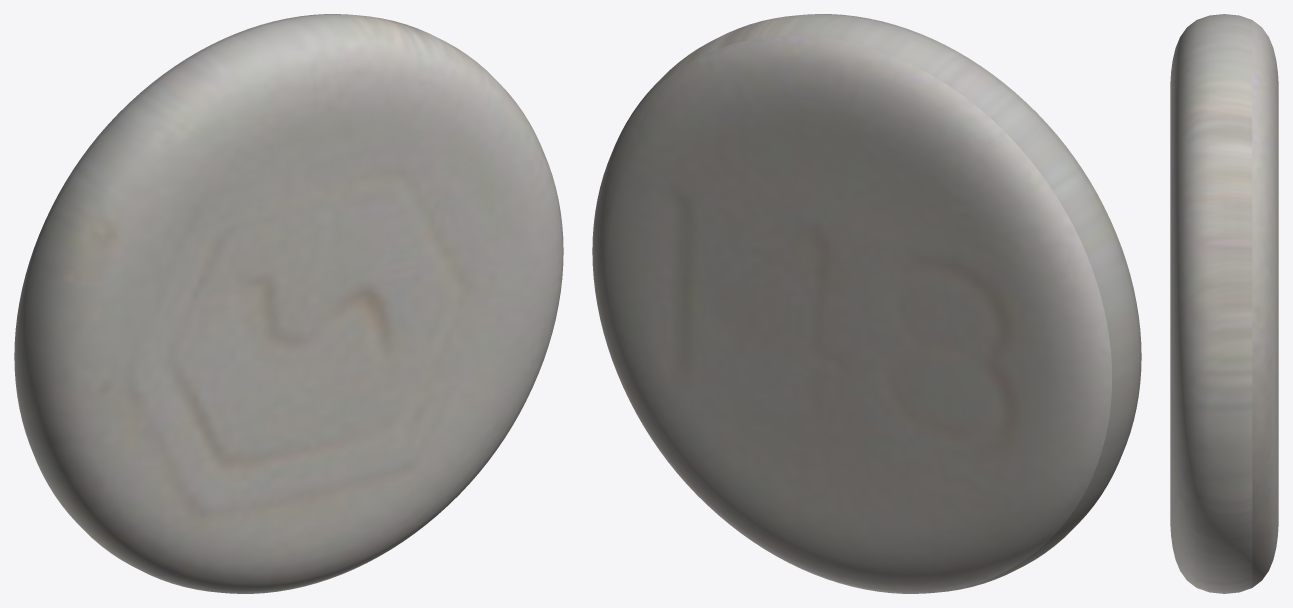
The model's file is 20140319GOPHDRGPT00086.fbx.
The picture shows the model from 3 angles, left to right: view 1: azimuth 30°, elevation 25°; view 2: azimuth 150°, elevation 25°; view 3: azimuth 270°, elevation 25°; orthographic projection. The views are drawn at different scales.
Visible parts, largest first — view 1: Cylinder.001; view 2: Cylinder.001; view 3: Cylinder.001.
Part boxes in pixels (x1=…): Cylinder.001: x1=14, y1=14, x2=563, y2=593; Cylinder.001: x1=592, y1=14, x2=1141, y2=593; Cylinder.001: x1=1170, y1=14, x2=1278, y2=593.
Size of the model in its own units: 0.7662 by 0.7662 by 0.1435.
